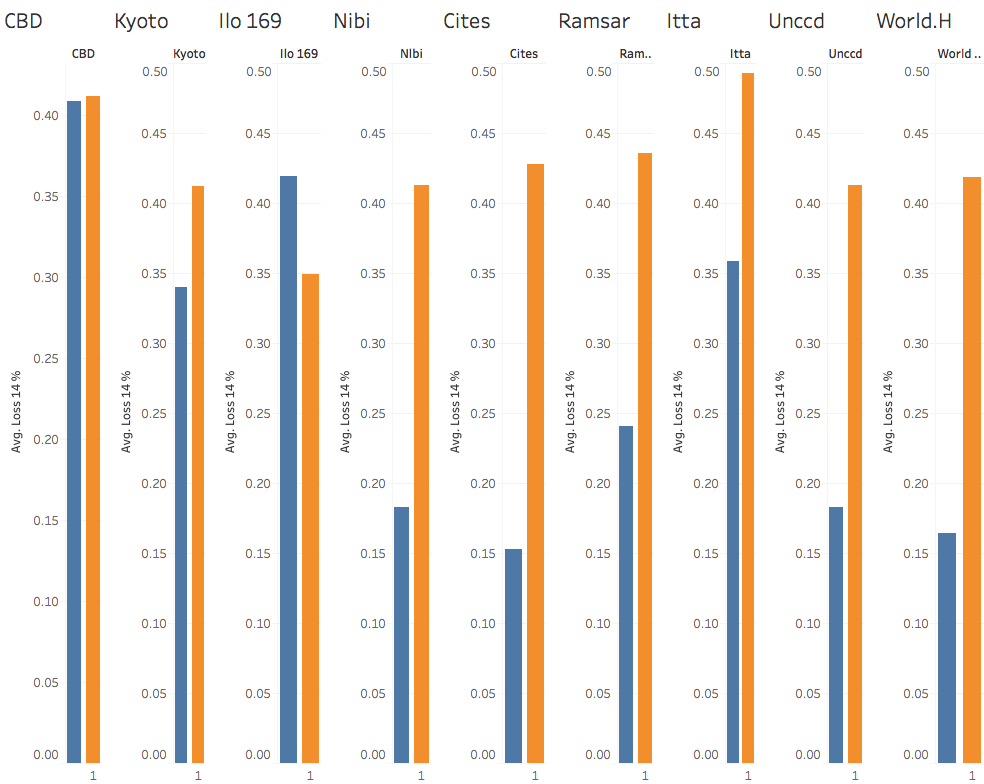

Layout of this report page (visuals, bound fields, positions):
{"tool":"tableau","page":{"name":"Dashboard 4","canvas":[1000,800],"ordinal":3},"visuals":[{"type":"worksheet","title":"Sheet 11","mark":"Automatic","rows":["loss_14_%"],"cols":["CBD"],"box":[0,0,113.8,800]},{"type":"worksheet","title":"Sheet 15","mark":"Automatic","rows":["loss_14_%"],"cols":["KYOTO"],"box":[113.8,0,104.2,800]},{"type":"worksheet","title":"Sheet 13","mark":"Automatic","rows":["loss_14_%"],"cols":["ILO 169"],"box":[218,0,115,800]},{"type":"worksheet","title":"Sheet 16","mark":"Automatic","rows":["loss_14_%"],"cols":["NLBI"],"box":[333,0,110,800]},{"type":"worksheet","title":"Sheet 12","mark":"Automatic","rows":["loss_14_%"],"cols":["CITES"],"box":[443,0,115,800]},{"type":"worksheet","title":"Sheet 17","mark":"Automatic","rows":["loss_14_%"],"cols":["RAMSAR"],"box":[558,0,108,800]},{"type":"worksheet","title":"Sheet 14","mark":"Automatic","rows":["loss_14_%"],"cols":["ITTA"],"box":[666,0,102,800]},{"type":"worksheet","title":"Sheet 18","mark":"Automatic","rows":["loss_14_%"],"cols":["UNCCD"],"box":[768,0,108,800]},{"type":"worksheet","title":"Sheet 19","mark":"Automatic","rows":["loss_14_%"],"cols":["WORLD HERITAGE"],"box":[876,0,120,800]}]}

Visuals, with their boxes in screenshot pixels (x1, y1, x2, y2), scaled from the page's 1000x800 canvas onto the 984x784 screenshot:
"Sheet 11" worksheet: (left=0, top=0, right=112, bottom=783)
"Sheet 15" worksheet: (left=112, top=0, right=215, bottom=783)
"Sheet 13" worksheet: (left=215, top=0, right=328, bottom=783)
"Sheet 16" worksheet: (left=328, top=0, right=436, bottom=783)
"Sheet 12" worksheet: (left=436, top=0, right=549, bottom=783)
"Sheet 17" worksheet: (left=549, top=0, right=655, bottom=783)
"Sheet 14" worksheet: (left=655, top=0, right=756, bottom=783)
"Sheet 18" worksheet: (left=756, top=0, right=862, bottom=783)
"Sheet 19" worksheet: (left=862, top=0, right=980, bottom=783)
